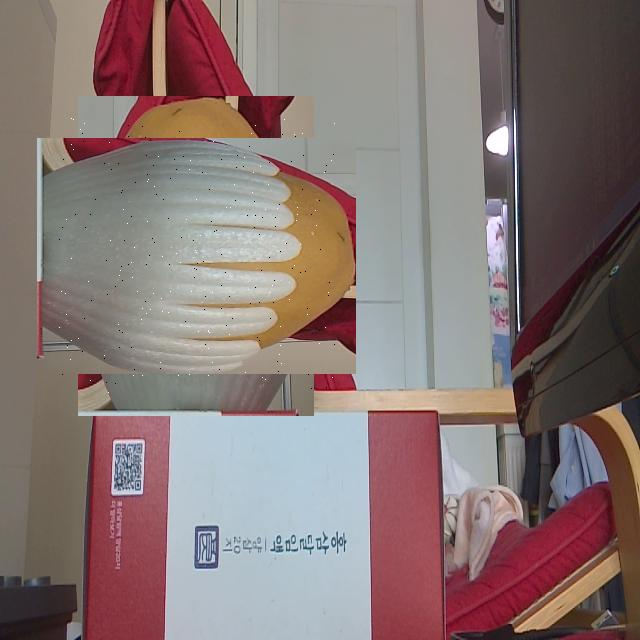pear: (57, 117, 335, 395)
